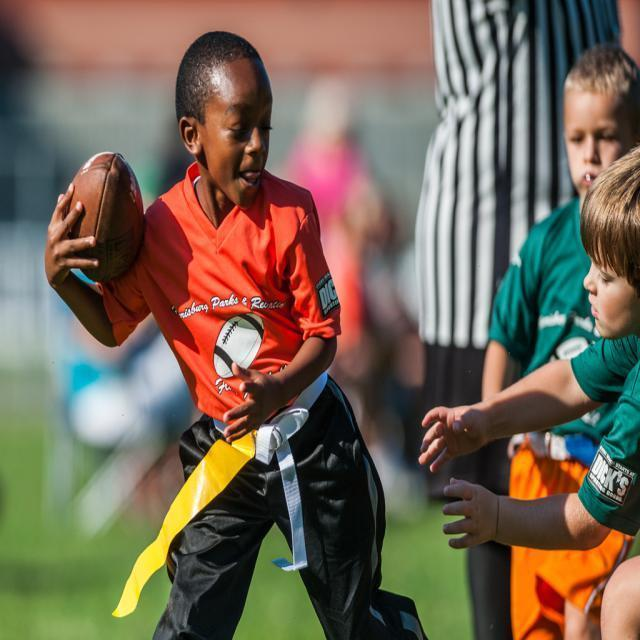ball: (62, 148, 146, 289)
